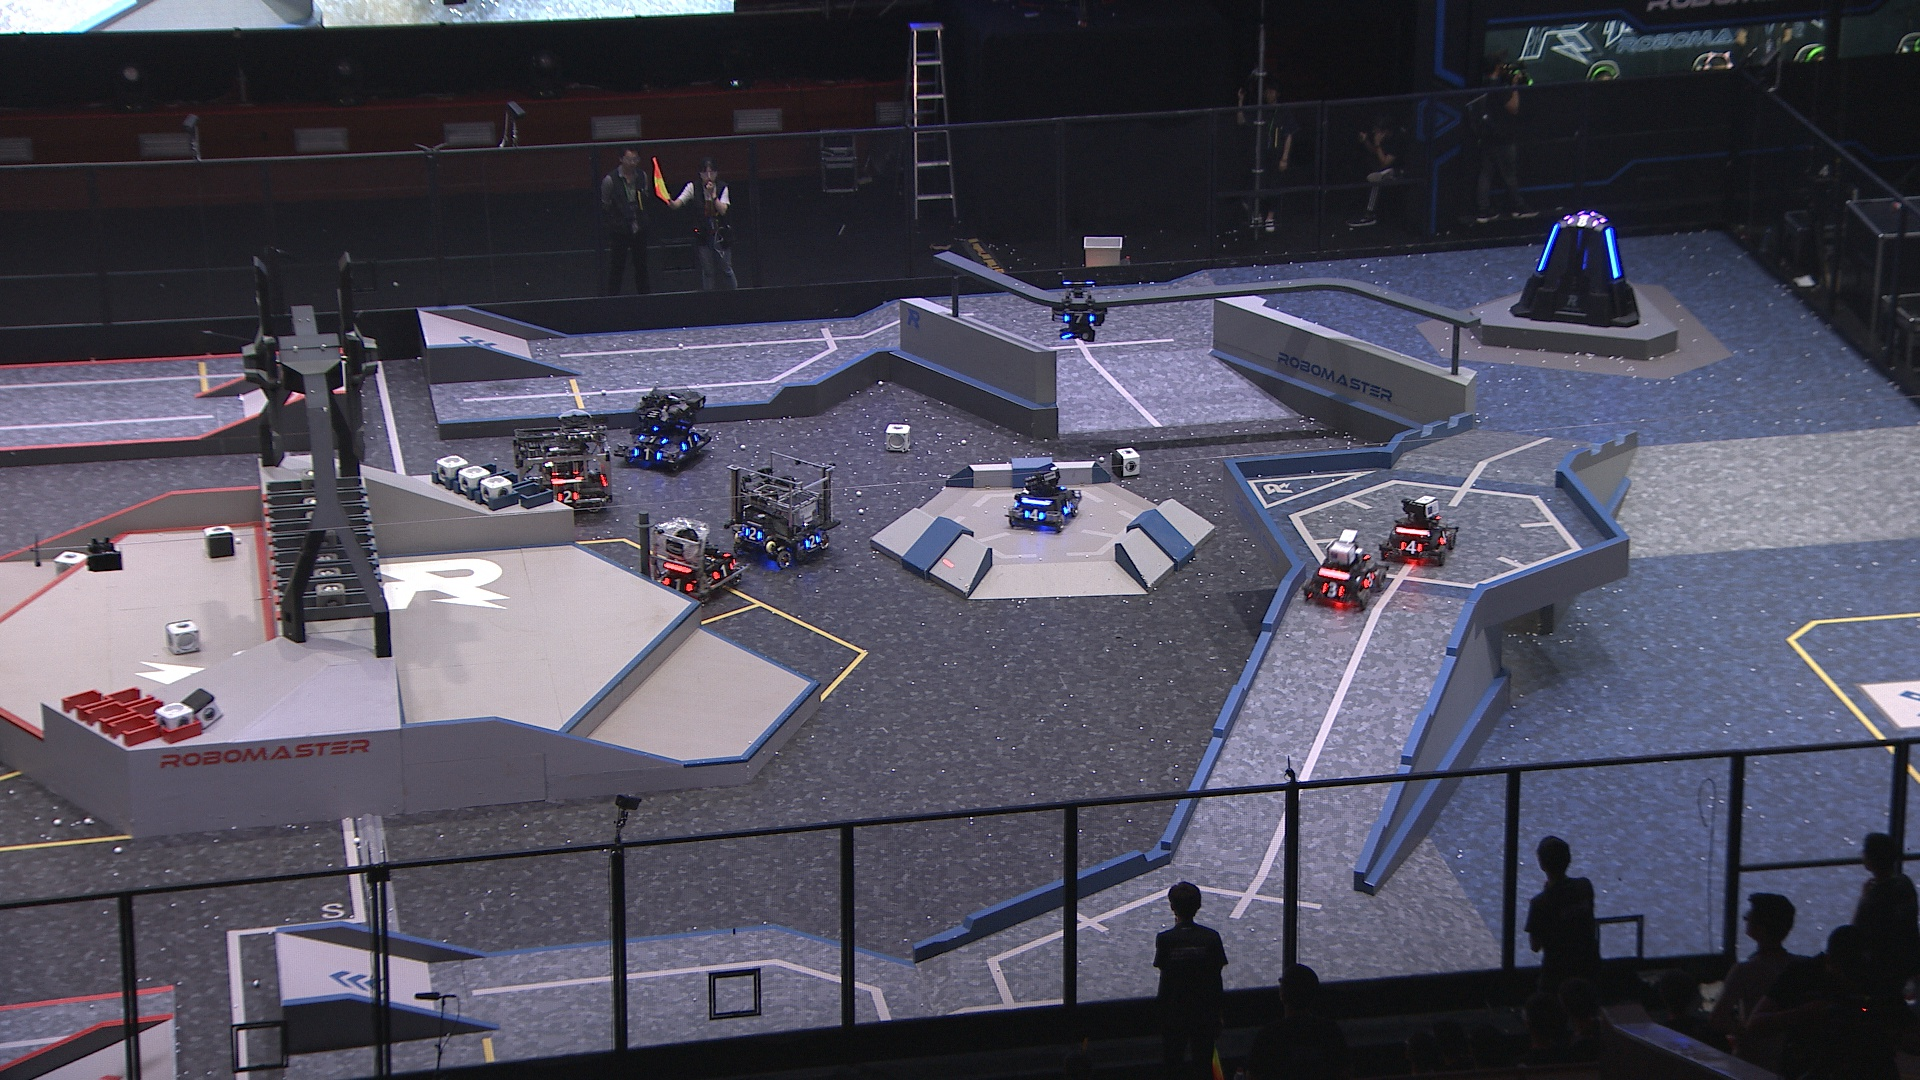armor: (1538, 223, 1561, 273), (1604, 225, 1623, 280), (661, 578, 695, 595), (711, 564, 737, 583), (1062, 311, 1097, 324), (555, 488, 582, 505), (632, 447, 662, 462), (1320, 582, 1344, 600), (638, 433, 671, 446), (679, 433, 700, 452), (803, 531, 822, 551), (1400, 541, 1424, 555), (1025, 506, 1044, 524), (1361, 570, 1377, 589), (744, 527, 765, 542), (1437, 529, 1451, 547), (1063, 498, 1073, 516)
base: (1506, 211, 1642, 328)
car: (724, 451, 831, 564), (510, 419, 608, 520), (613, 384, 716, 472), (645, 514, 745, 603), (1298, 541, 1387, 612), (1377, 491, 1456, 567), (1001, 472, 1083, 529)
ignore: (1567, 211, 1602, 229)
watcher: (1050, 272, 1106, 344)
